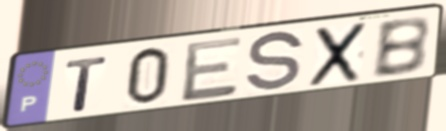0: (124, 44, 175, 110)
B: (369, 15, 433, 81)
E: (179, 34, 245, 105)
S: (242, 28, 307, 96)
T: (63, 54, 111, 114)
X: (306, 19, 371, 90)
